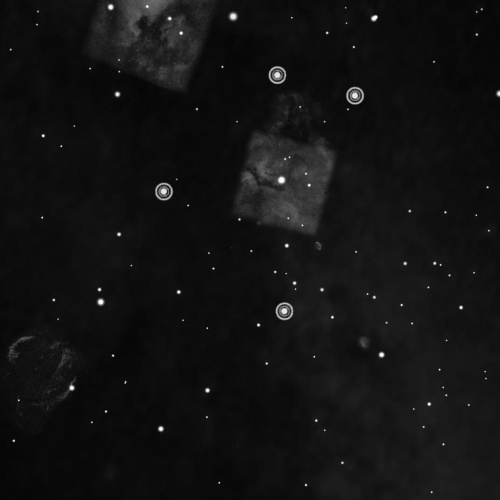coma_berenices: (147, 56, 372, 324)
